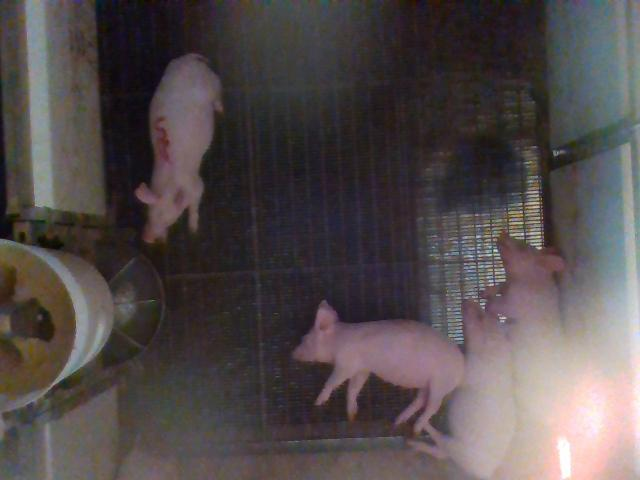pig-3: (135, 54, 222, 243)
